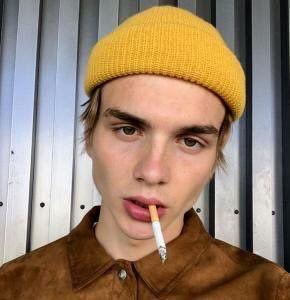cigarette: (149, 204, 168, 265)
